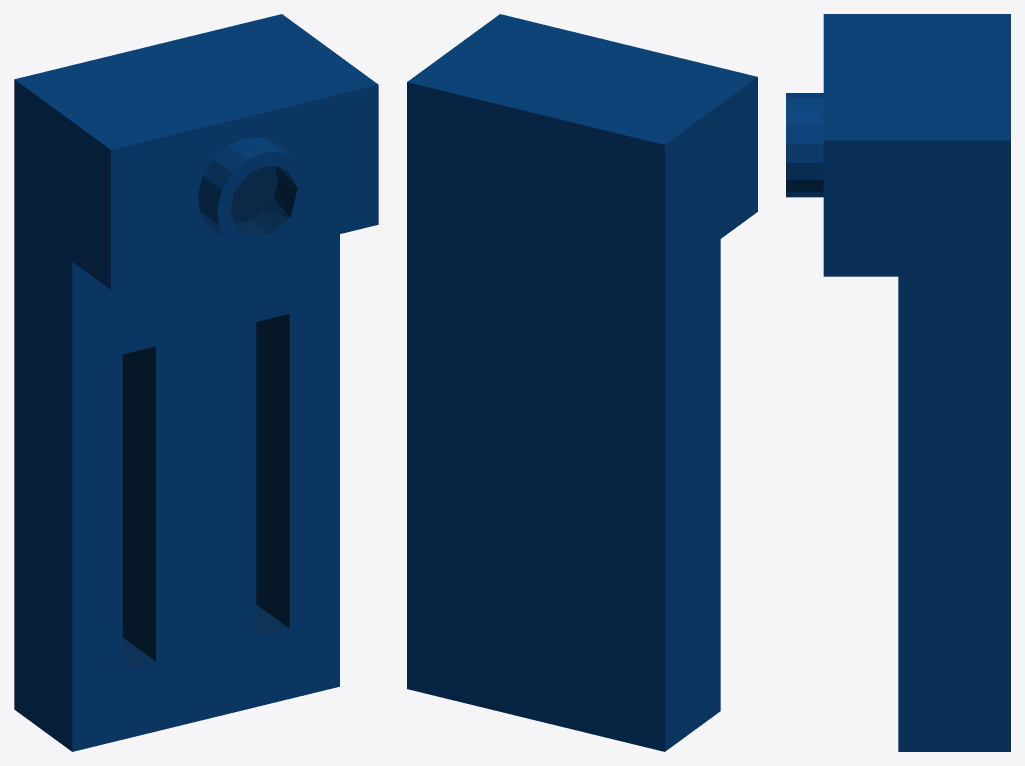
3 views of the same model, side by side, from view 1: azimuth 30°, elevation 25°; view 2: azimuth 150°, elevation 25°; view 3: azimuth 270°, elevation 25° (orthographic). The views are drawn at different scales.
Parts seen in each view (by area): view 1: base_link_base_link.001; view 2: base_link_base_link.001; view 3: base_link_base_link.001.
Boxes of the visible parts, x1,y1,x2,y2 form: base_link_base_link.001: (14,14,378,751); base_link_base_link.001: (407,14,757,751); base_link_base_link.001: (786,14,1010,751).
Size of the model in its own units: 0.2 by 0.45 by 0.15.
